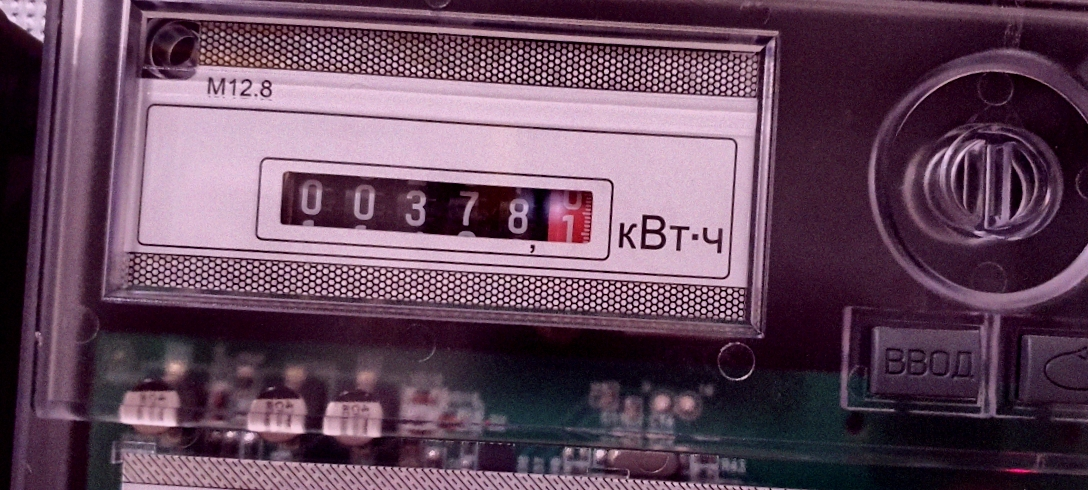0: (297, 174, 328, 217), (350, 180, 378, 222), (560, 187, 584, 211)
1: (556, 210, 579, 244)
3: (400, 186, 430, 229)
7: (453, 187, 481, 228)
8: (504, 194, 532, 236)
screen: (257, 139, 616, 268)
